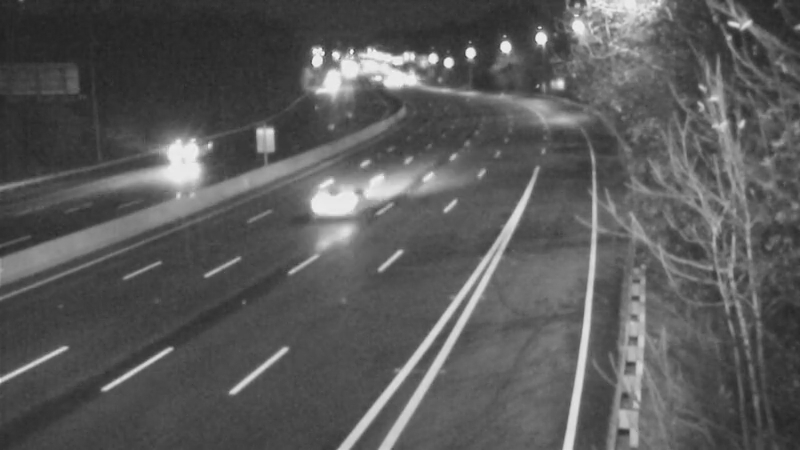vehicle: (301, 160, 381, 240), (142, 112, 222, 192)
